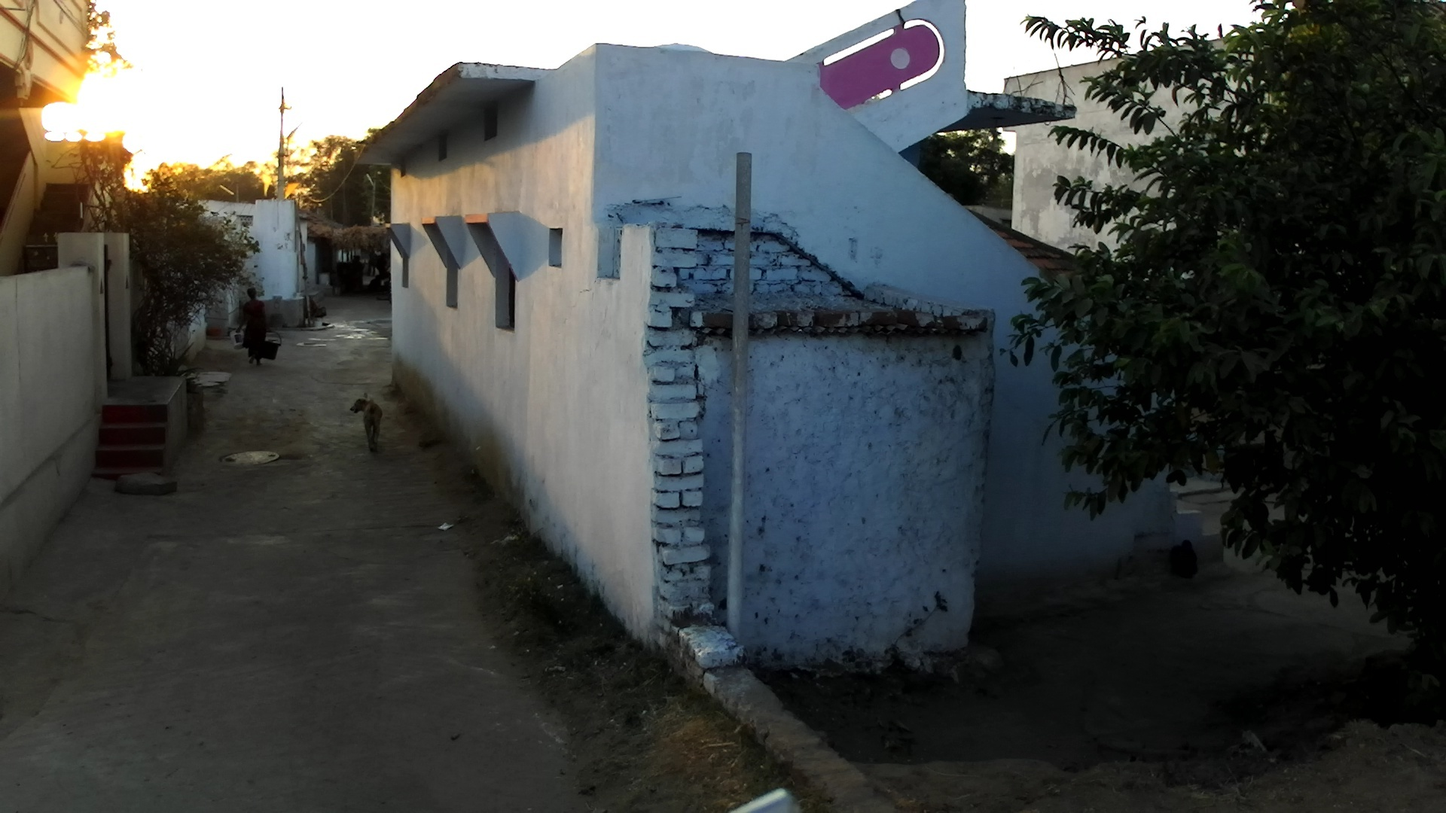animal: (349, 391, 383, 457)
person: (230, 289, 284, 367)
